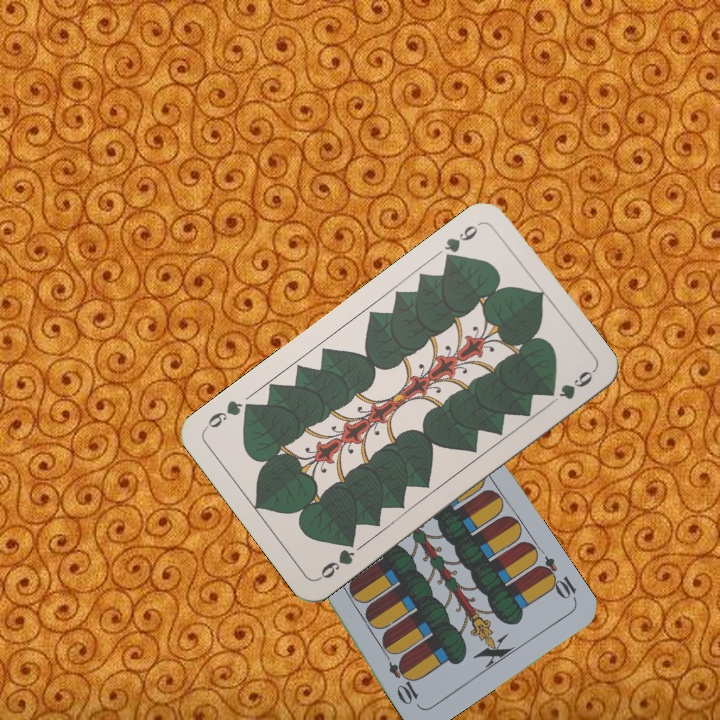E10: (533, 552, 580, 604)
G9: (314, 534, 358, 583), (439, 221, 481, 266)
